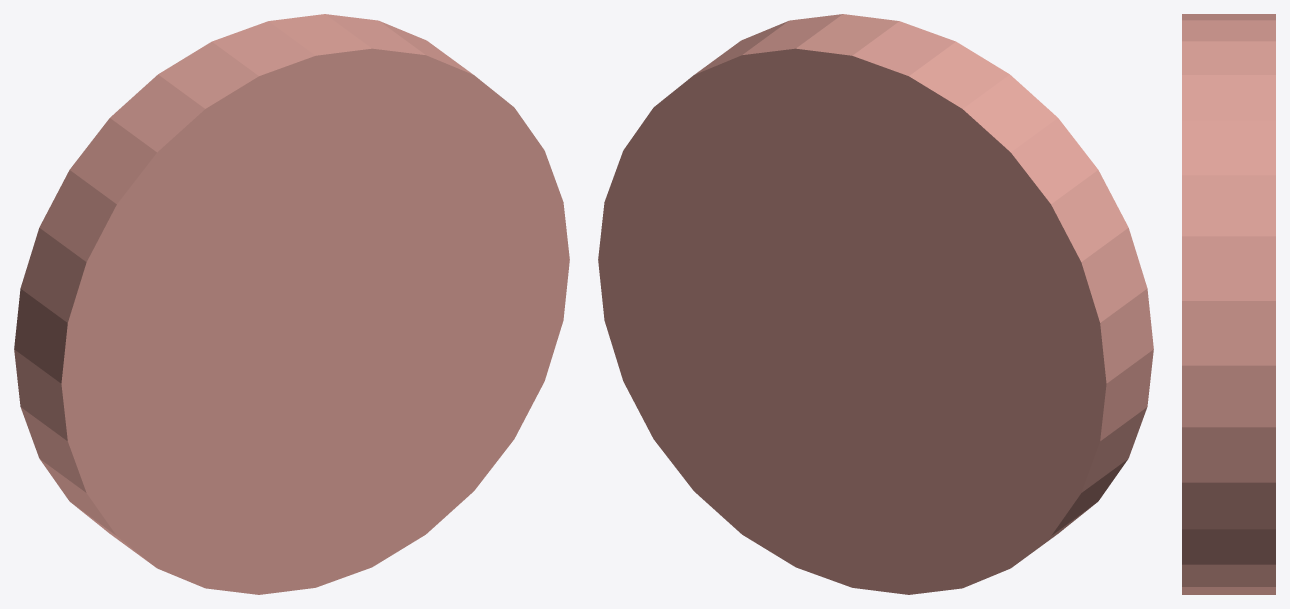
Rendered from dog_bed.glb.
3 renders of one model, left to right at view 1: azimuth 30°, elevation 25°; view 2: azimuth 150°, elevation 25°; view 3: azimuth 270°, elevation 25°, orthographic.
Parts seen in each view (by area): view 1: part_00; view 2: part_00; view 3: part_00.
Boxes of the visible parts, left/top/right/bottom form: part_00: left=14, top=14, right=569, bottom=594; part_00: left=598, top=14, right=1153, bottom=594; part_00: left=1182, top=14, right=1275, bottom=594.
Size of the model in its own units: 1.24 by 1.24 by 0.2.
